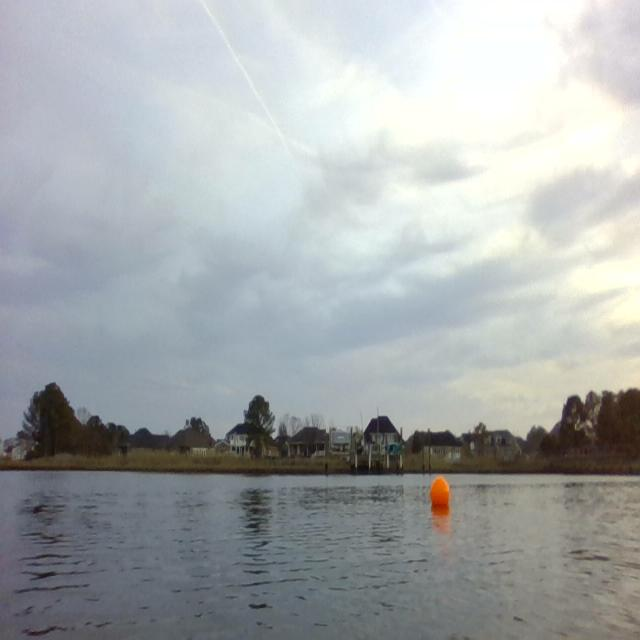Buoy: (428, 471, 451, 514)
